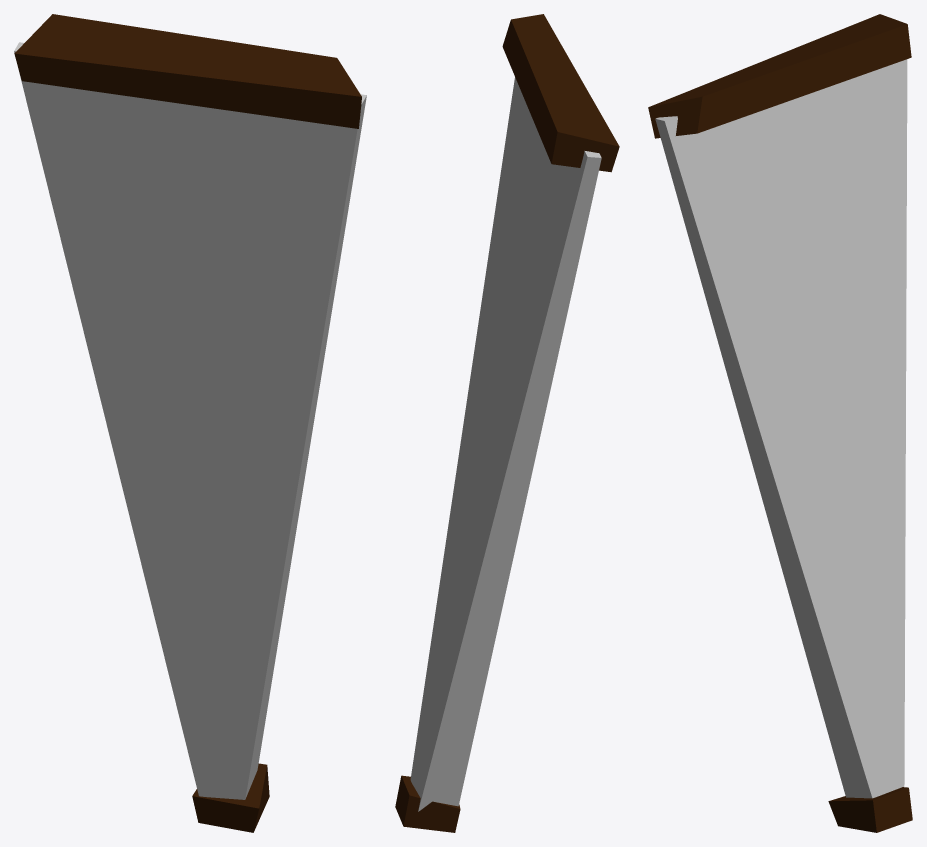
Rendered from MaisRich_Mur_et_ext_coin.fbx.
The picture shows the model from 3 angles, left to right: view 1: azimuth 30°, elevation 25°; view 2: azimuth 150°, elevation 25°; view 3: azimuth 270°, elevation 25°; orthographic projection. The views are drawn at different scales.
Visible parts, largest first — view 1: pCube80; view 2: pCube80; view 3: pCube80.
Boxes of the visible parts, left/top/right/bottom form: pCube80: left=14, top=14, right=366, bottom=832; pCube80: left=395, top=14, right=619, bottom=832; pCube80: left=648, top=14, right=912, bottom=832.
Bounding box in the file's own units: 13 × 40.66 × 13.32.
